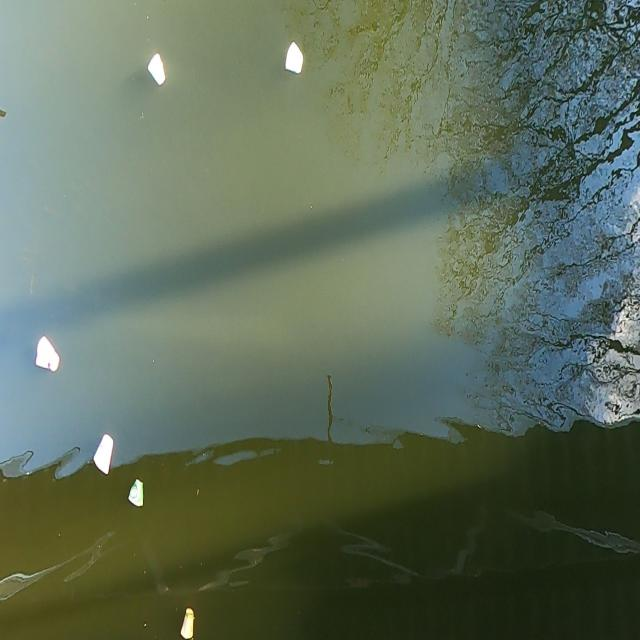Non plastique: (88, 426, 117, 485), (33, 331, 64, 384), (123, 471, 153, 516), (282, 37, 308, 83), (146, 48, 172, 94), (175, 601, 203, 640)
